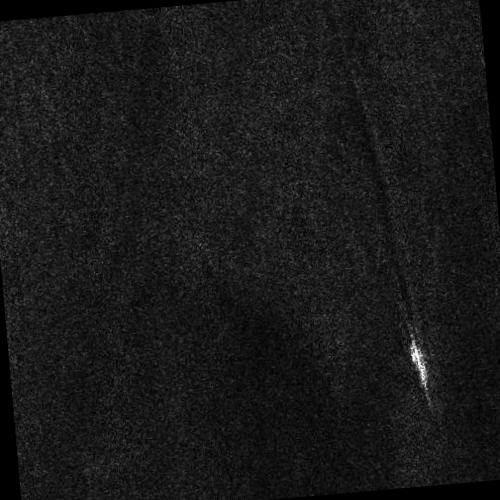ship: (409, 335, 428, 389)
